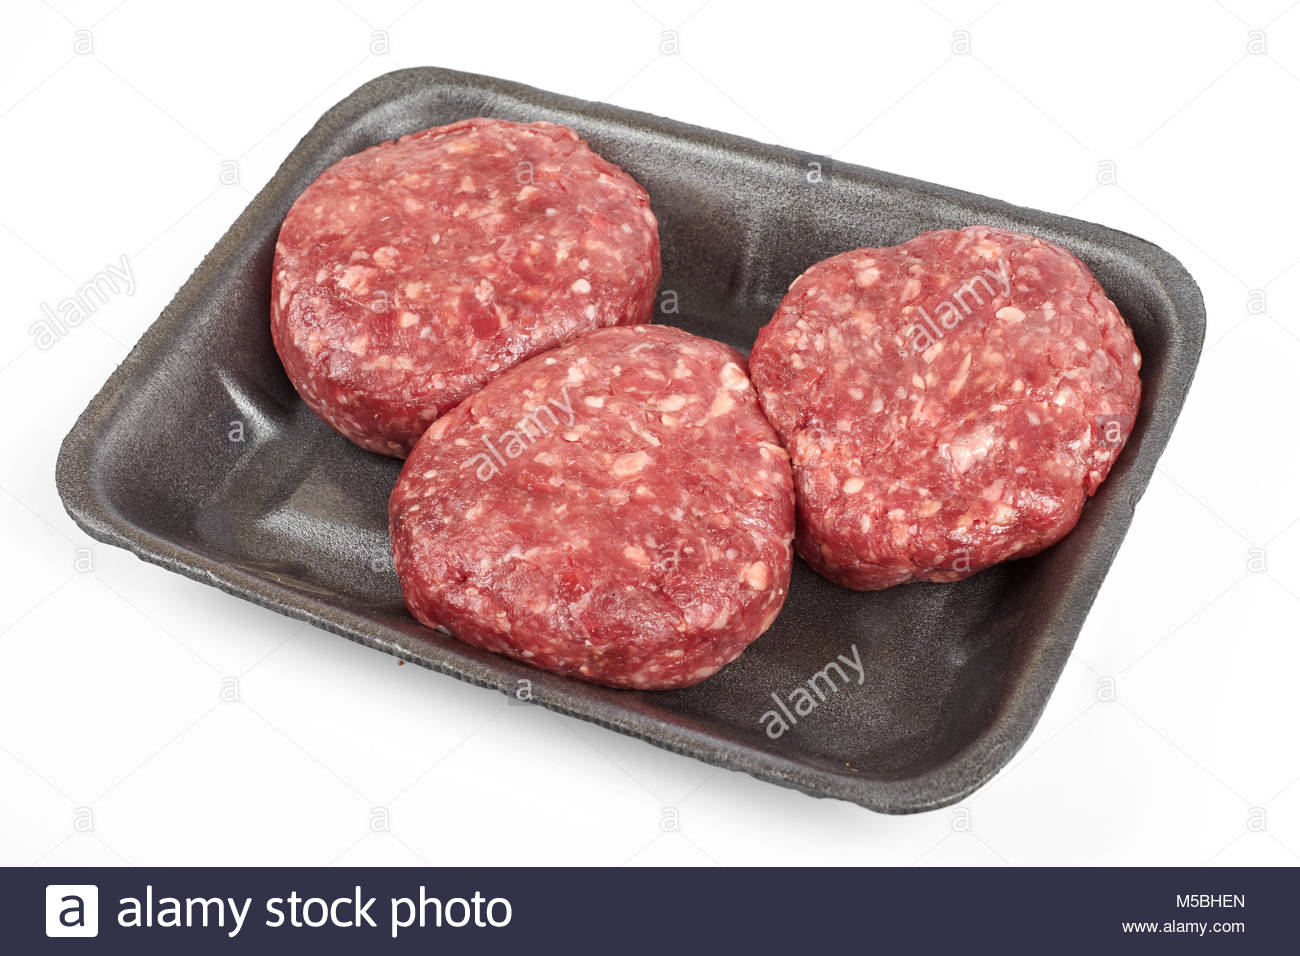ground_beef: (729, 204, 1167, 604), (396, 249, 796, 685), (273, 113, 676, 437)
